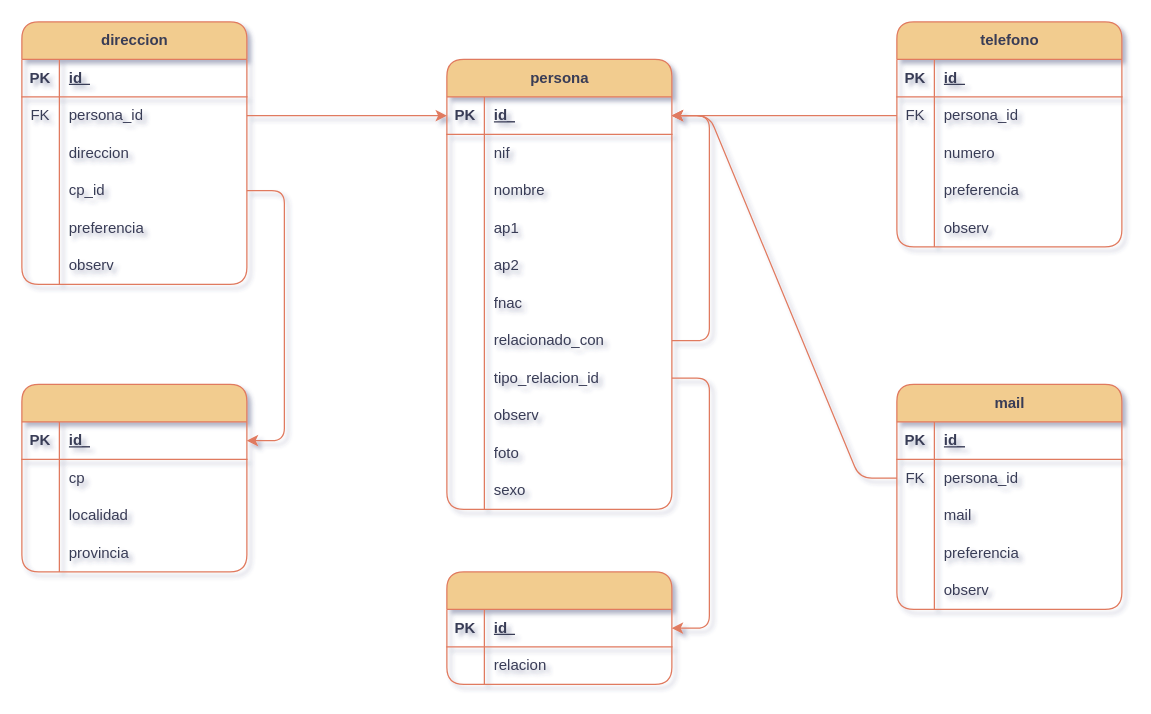
The diagram is 1151 pixels wide and 714 high, and some of its shapes have lost their labels. The box of each missing label's shape, as (x1, y1, x2, y2) in pixels:
codigo_postal: (21, 383, 247, 572)
tipo_relacion: (446, 571, 672, 684)
